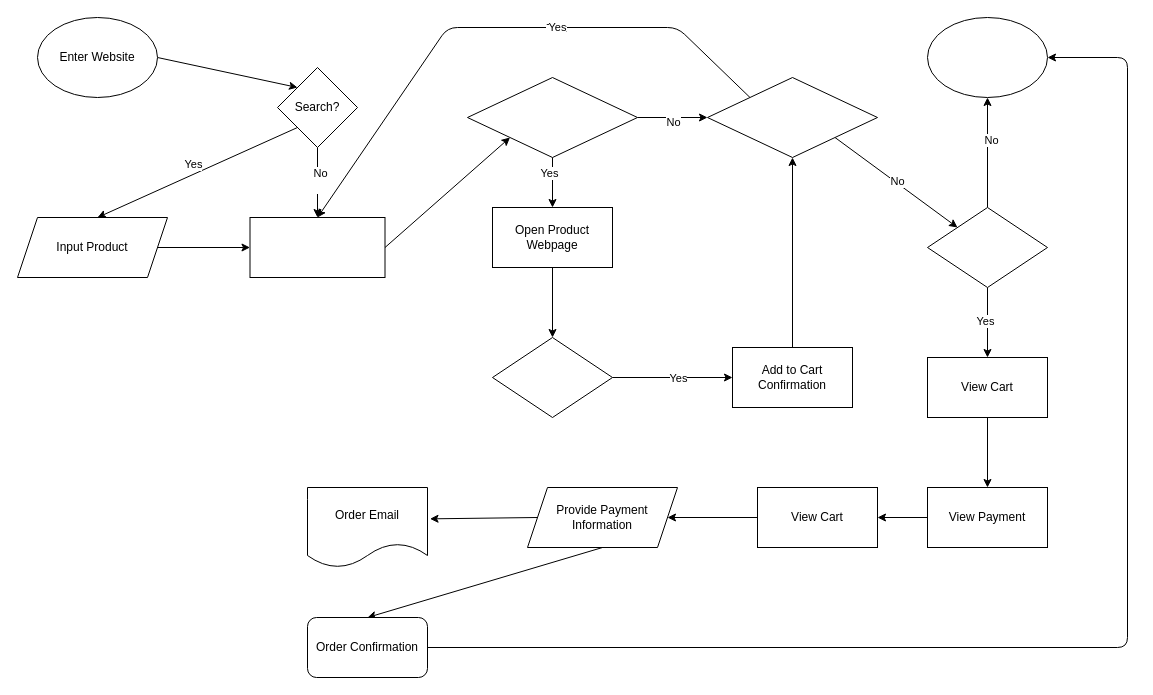
The diagram is 1153 pixels wide and 695 high, and some of its shapes have lost their labels. The centre of each missing label's shape, as x and y in pixels:
Add to Cart?: the point at 552,377
Browse Products: the point at 317,247
Checkout?: the point at 987,247
Continue Shopping?: the point at 792,117
Leave Website: the point at 987,57
View a Product?: the point at 552,117
